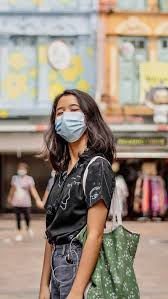with-mask: (42, 88, 105, 149), (10, 159, 35, 177)
